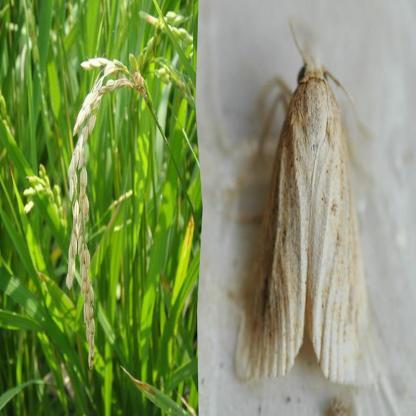stem-borer: (234, 37, 377, 384)
